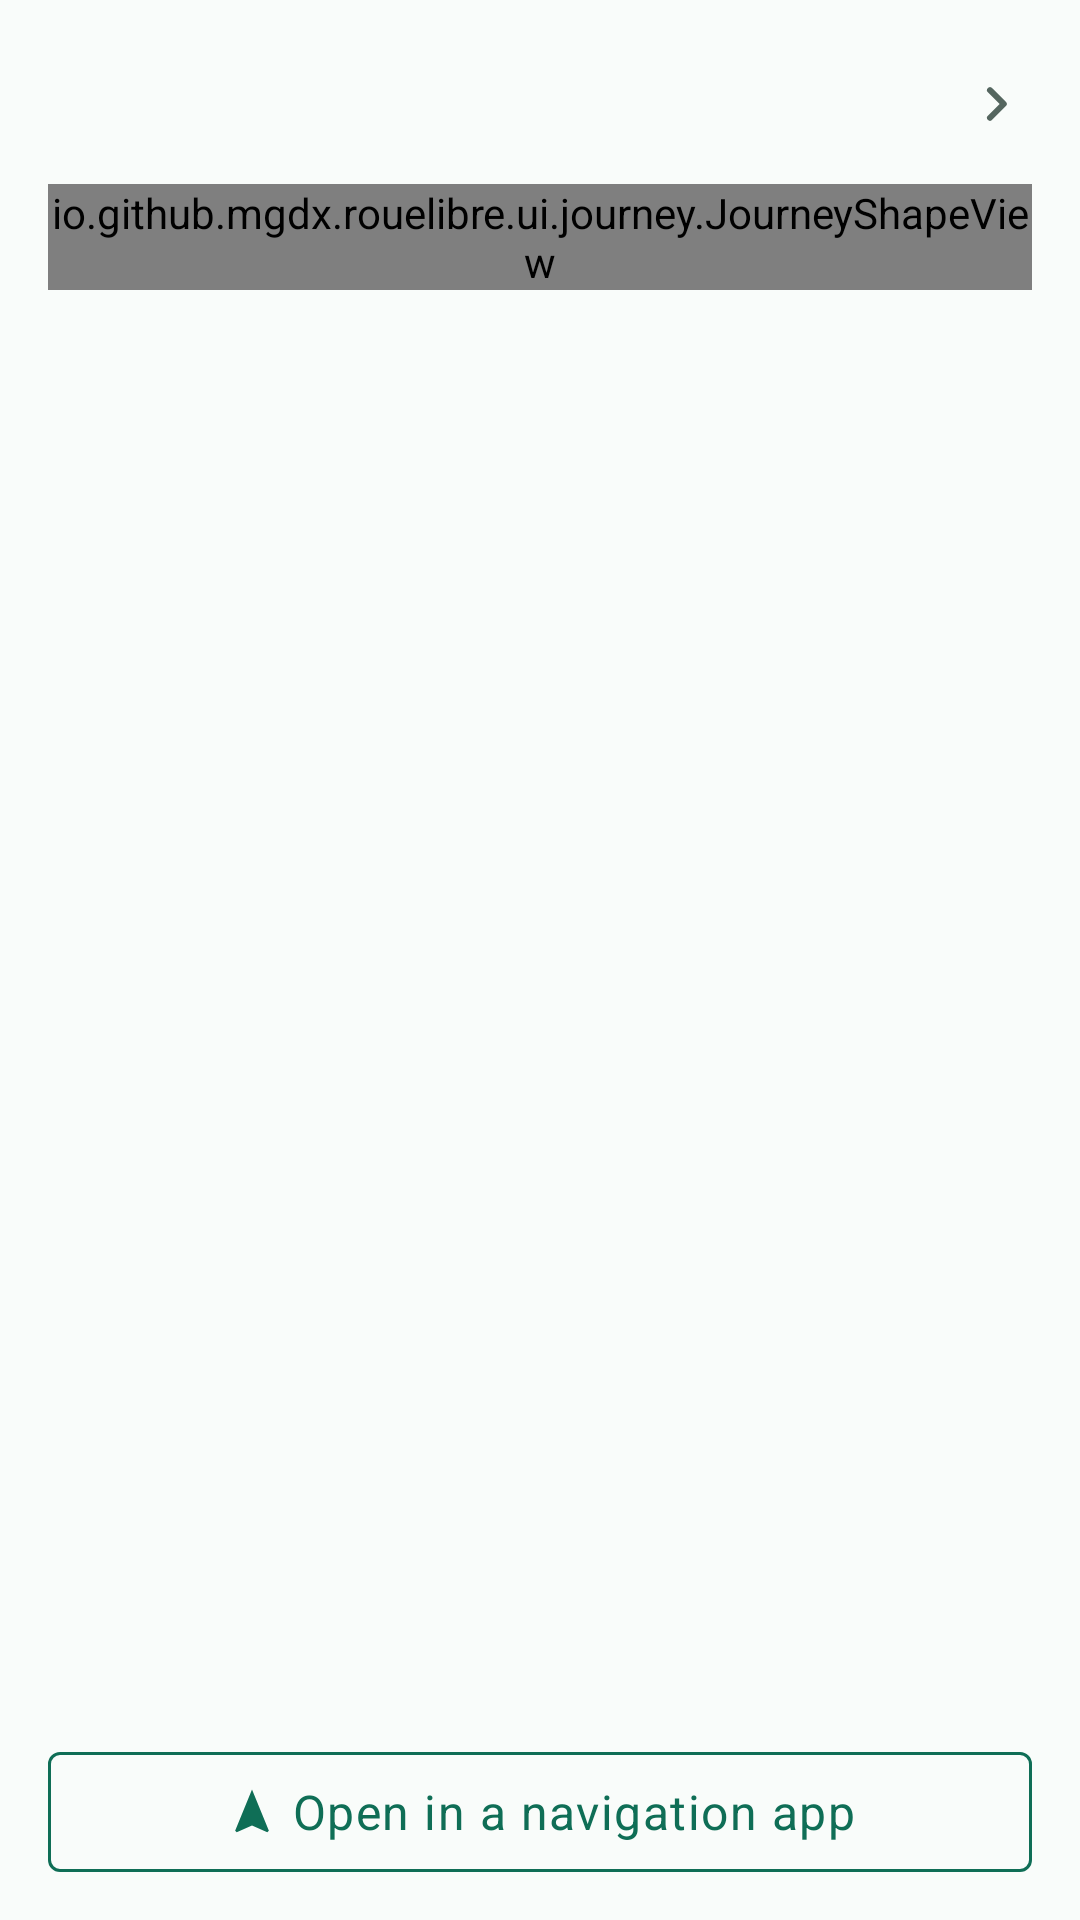

Icon click points for this 1080w x 1920h phone screenshot, format (x,y):
chevron: (997,104)
